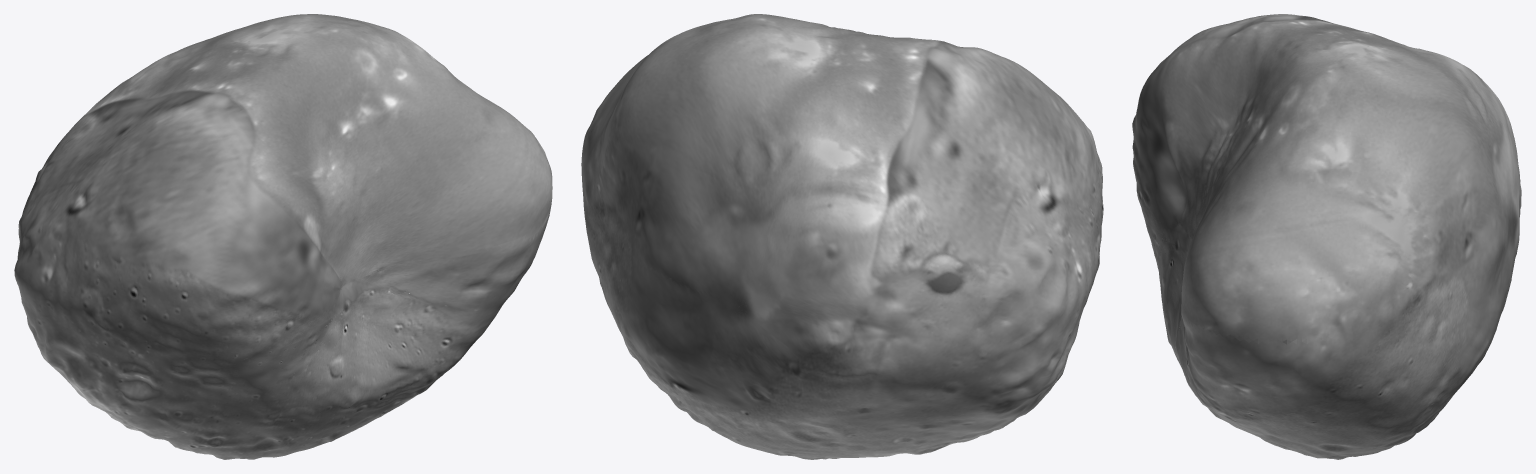
3 views of the same model, side by side, from view 1: azimuth 30°, elevation 25°; view 2: azimuth 150°, elevation 25°; view 3: azimuth 270°, elevation 25° (orthographic). The views are drawn at different scales.
Visible parts, largest first — view 1: Deimos; view 2: Deimos; view 3: Deimos.
Boxes of the visible parts, x1=… form: Deimos: x1=14, y1=14, x2=552, y2=459; Deimos: x1=581, y1=14, x2=1103, y2=459; Deimos: x1=1132, y1=14, x2=1521, y2=459.
Bounding box in the file's own units: 1543 × 1226 × 1081.
Materials: 1 (1 with a texture image).
